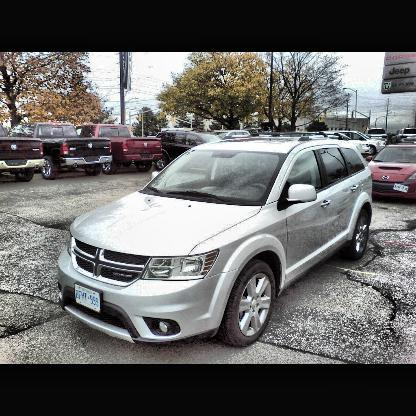Dodge Journey SUV 2012: (56, 132, 372, 348)
